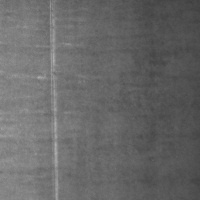scratches: (47, 1, 61, 200)
